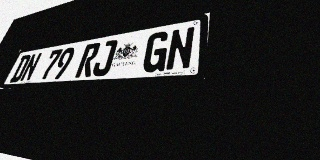7: (38, 49, 63, 80)
9: (51, 46, 77, 80)
D: (9, 54, 32, 83)
G: (141, 30, 171, 73)
J: (91, 39, 118, 77)
N: (165, 26, 196, 71), (19, 52, 43, 82)
R: (75, 42, 101, 78)
